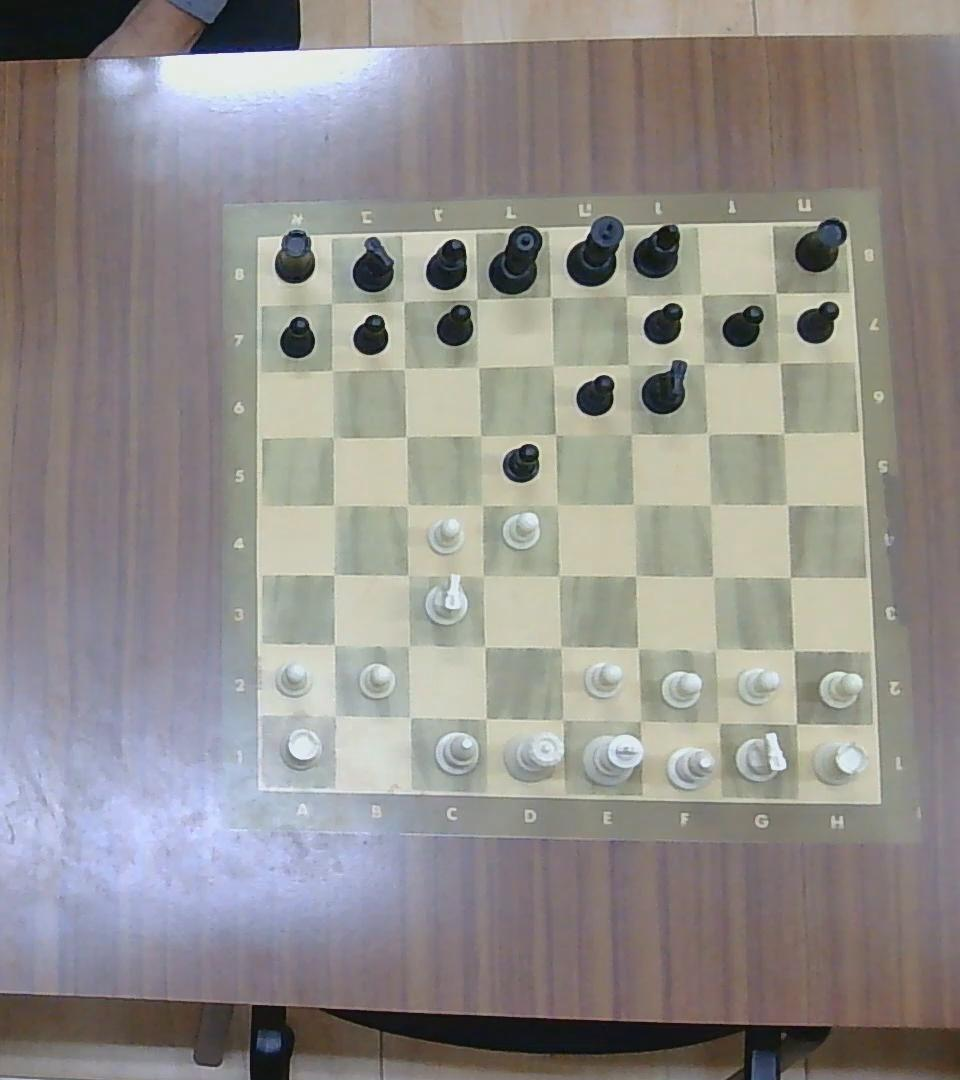xcorner: (778, 705, 813, 739), (623, 702, 656, 735), (620, 631, 653, 664), (702, 705, 734, 738), (468, 630, 500, 662), (469, 701, 501, 733), (543, 630, 575, 662), (546, 702, 578, 734), (319, 699, 350, 731), (774, 561, 805, 592), (698, 634, 730, 664), (393, 701, 423, 732), (393, 630, 423, 661), (698, 561, 728, 592), (777, 634, 808, 664), (319, 629, 349, 659), (621, 560, 650, 590), (544, 560, 573, 590), (393, 560, 422, 590), (319, 558, 348, 588), (620, 488, 649, 517), (467, 561, 496, 589), (543, 490, 572, 518), (467, 490, 495, 518), (695, 490, 723, 518), (772, 489, 801, 516), (616, 420, 645, 447), (693, 418, 722, 445), (536, 283, 565, 310), (393, 489, 421, 516), (770, 418, 798, 445), (463, 285, 491, 312), (320, 491, 349, 517), (464, 352, 491, 379), (612, 281, 639, 308), (538, 351, 566, 377), (318, 422, 345, 448), (389, 287, 416, 313), (465, 421, 493, 446), (317, 289, 345, 314), (393, 422, 419, 448), (318, 356, 344, 382), (542, 421, 569, 446), (615, 350, 641, 375), (690, 350, 715, 374), (690, 281, 714, 305), (763, 280, 788, 303), (390, 356, 414, 379), (767, 349, 791, 372)
